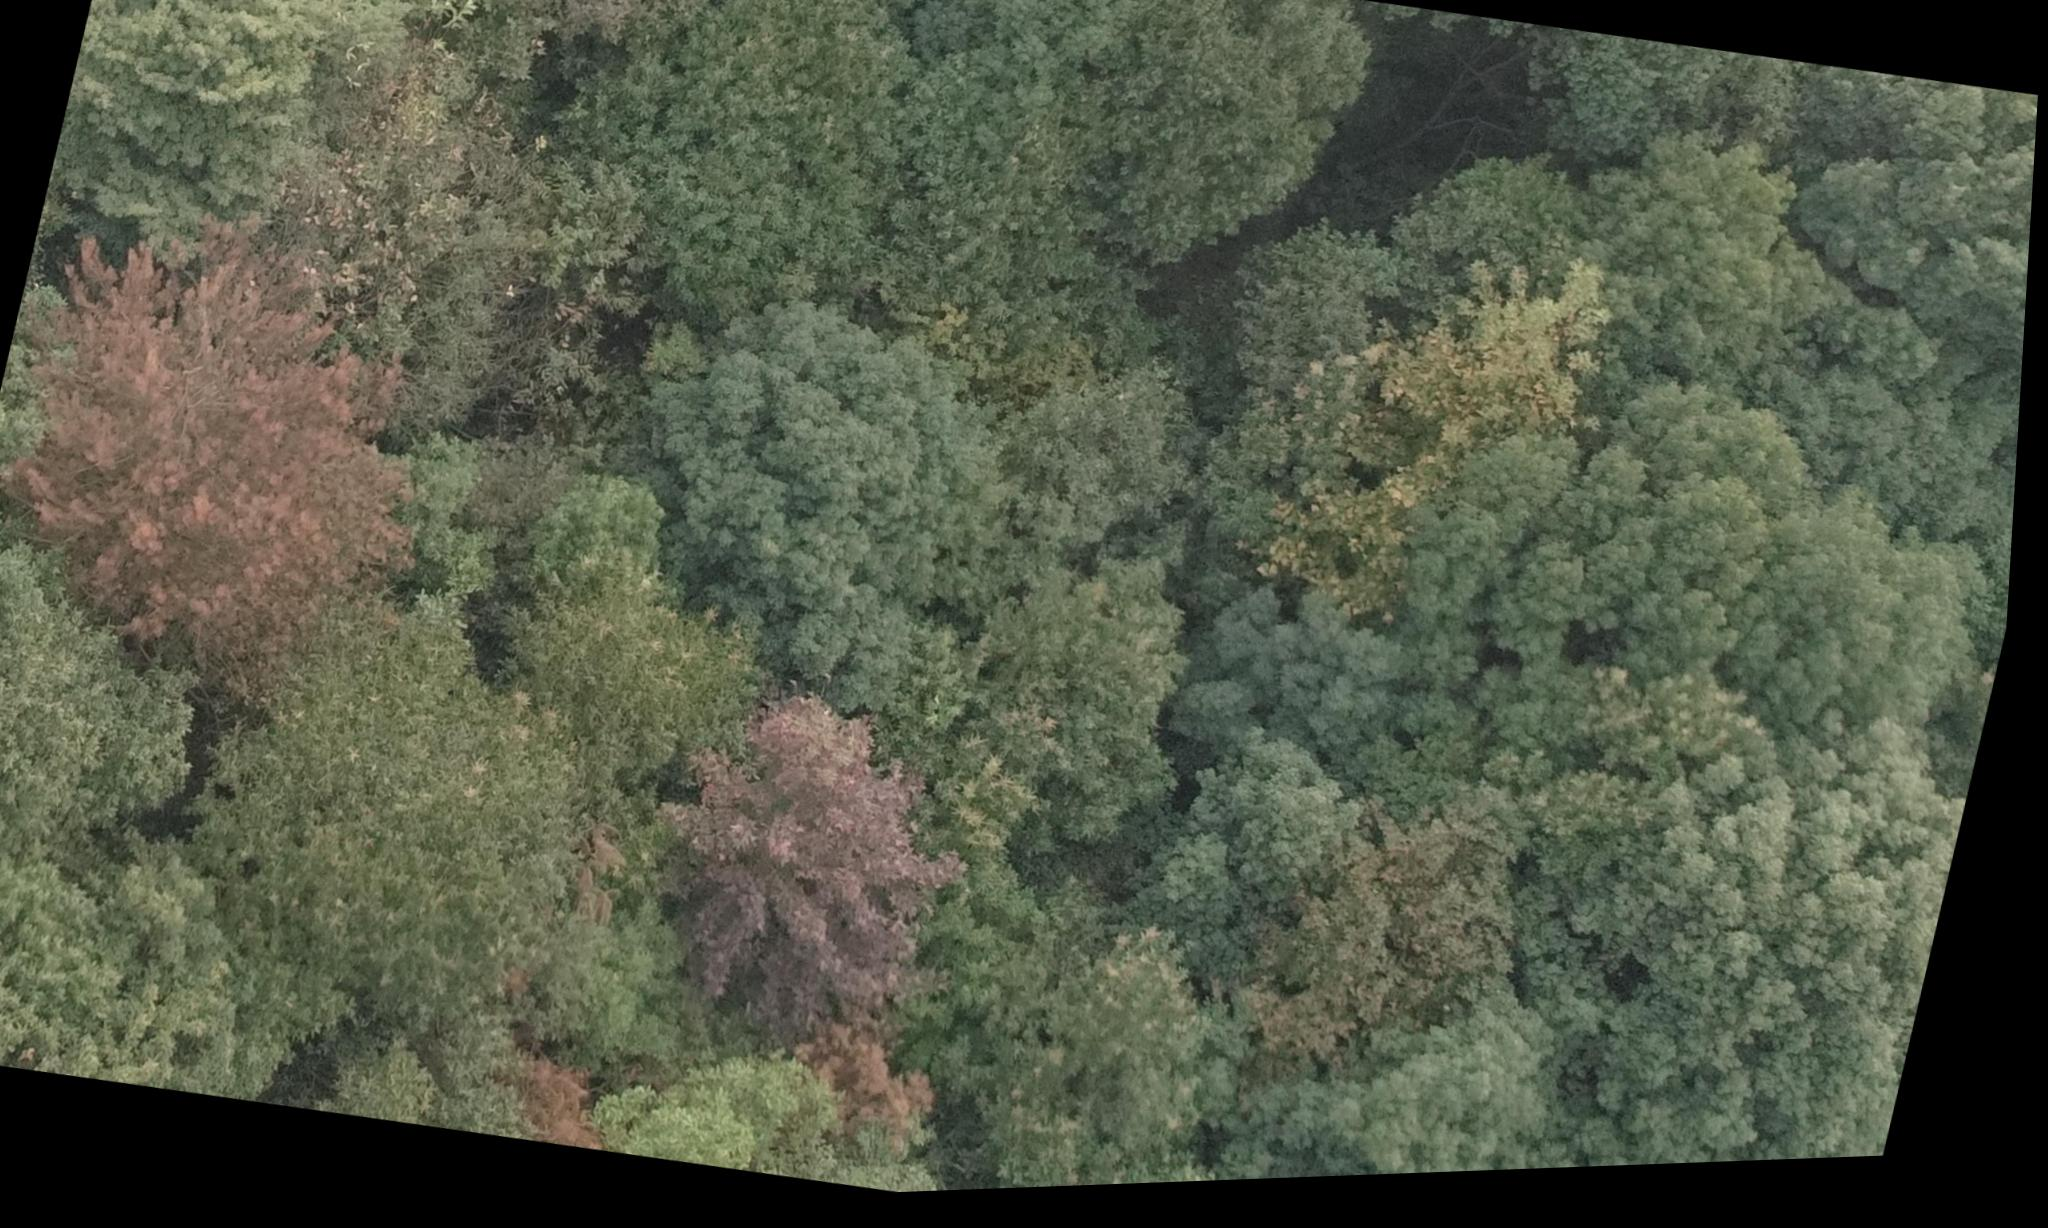heavy: (0, 194, 477, 708)
